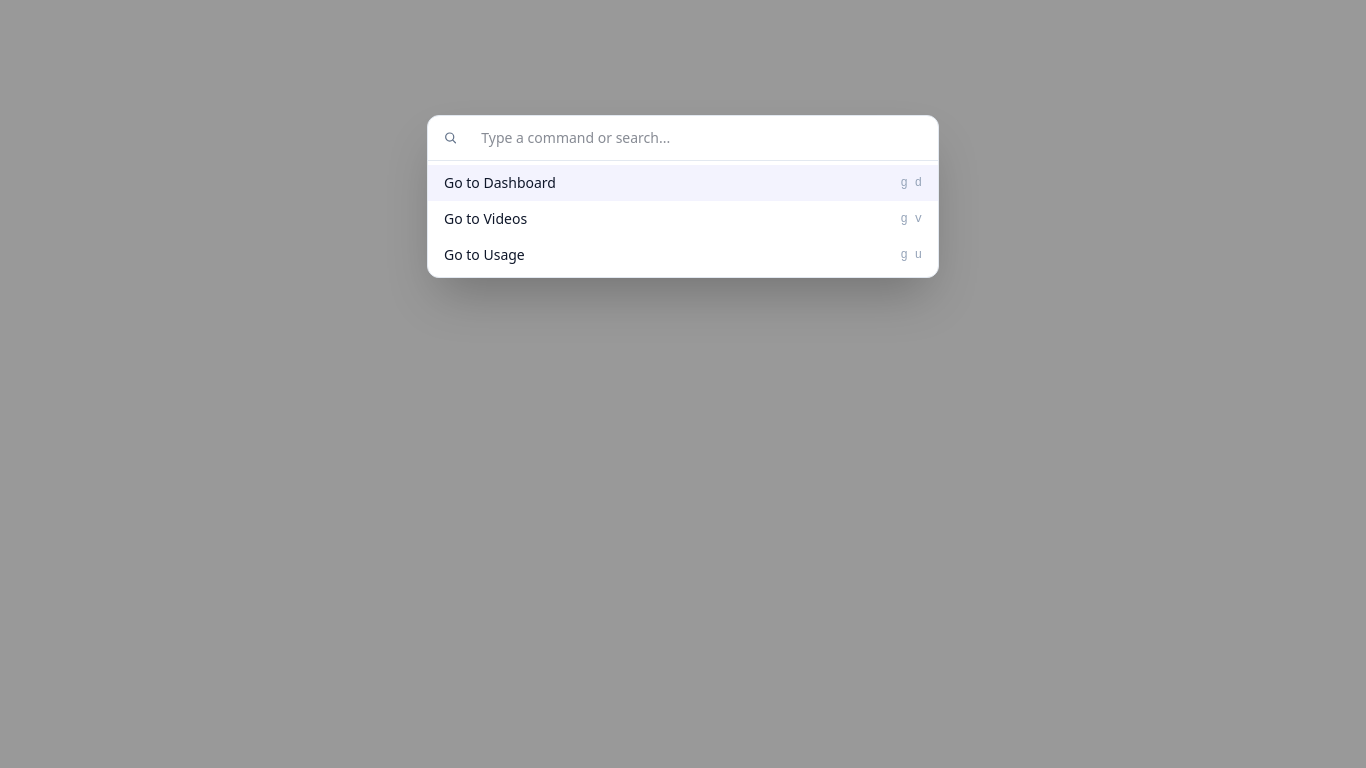
Scenario: CommandPalette › should show empty state when no commands match
The image size is (1366, 768).
Type "zzzzz" into the field at (694, 138), box [465, 116, 922, 160]
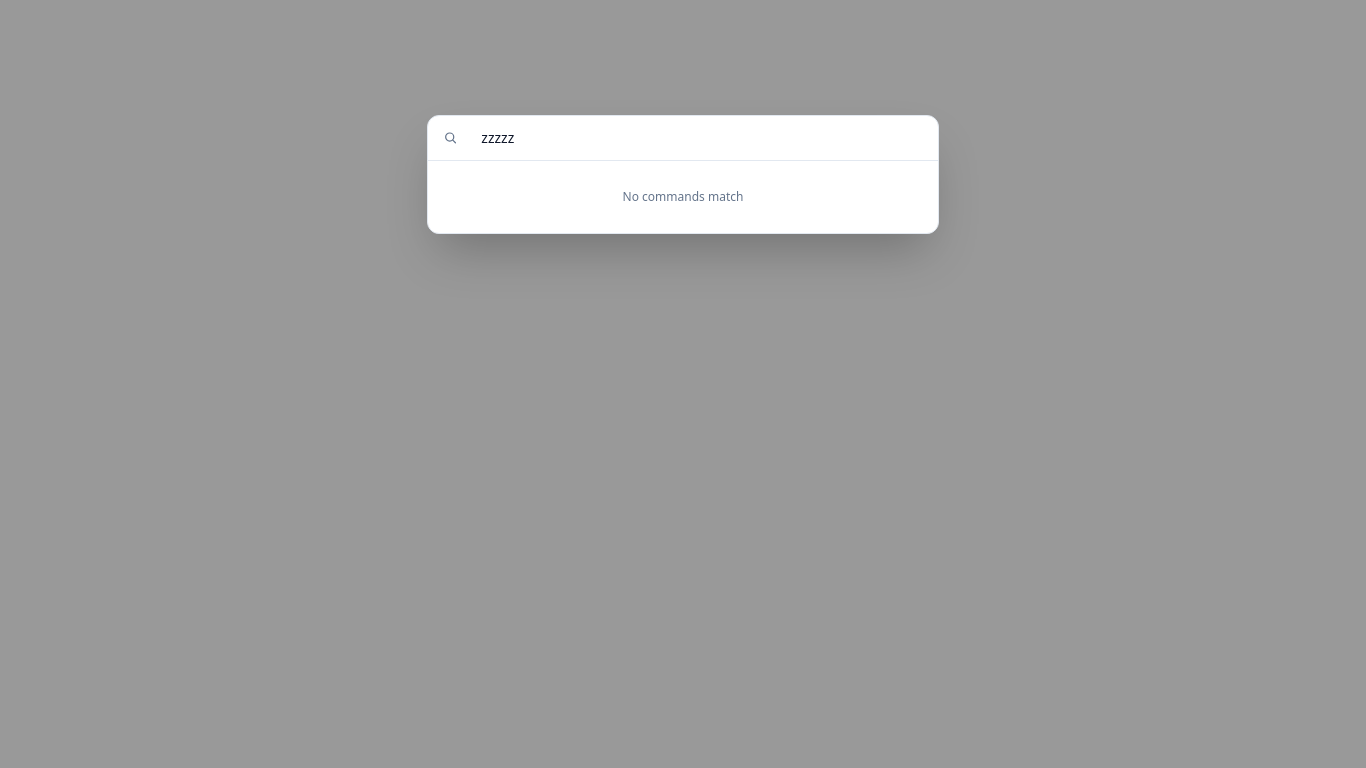
Expected: the list item "No commands match" is shown, [623, 188, 743, 205]
